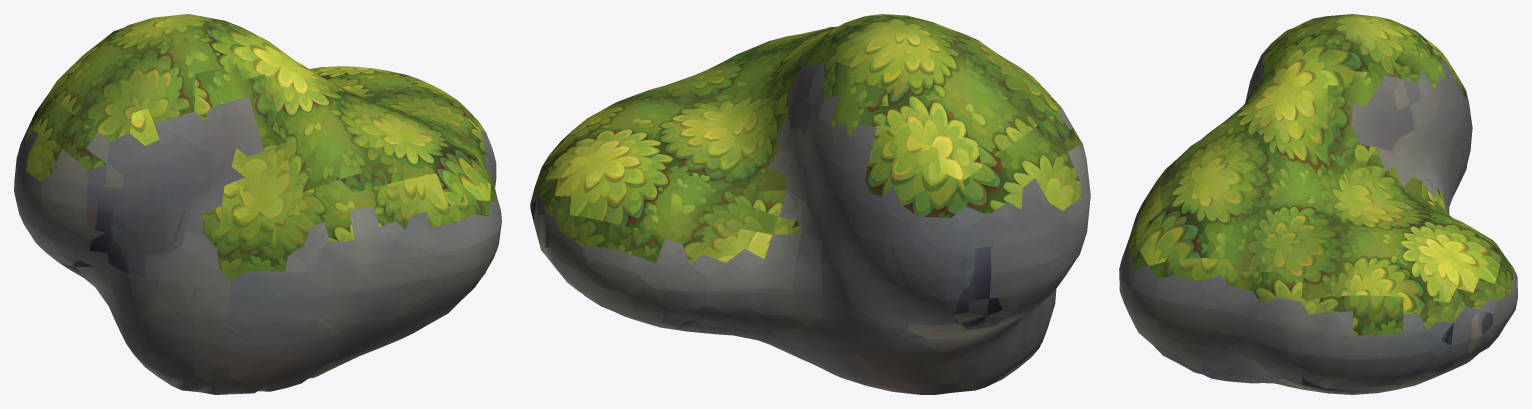
File: mossy_stone1.glb
The picture shows the model from 3 angles, left to right: view 1: azimuth 30°, elevation 25°; view 2: azimuth 150°, elevation 25°; view 3: azimuth 270°, elevation 25°; orthographic projection. The views are drawn at different scales.
Parts seen in each view (by area): view 1: mossy_stone1_stone_LOD0, mossy_stone1_moss_LOD0; view 2: mossy_stone1_moss_LOD0, mossy_stone1_stone_LOD0; view 3: mossy_stone1_moss_LOD0, mossy_stone1_stone_LOD0.
Boxes of the visible parts, <box> form: mossy_stone1_stone_LOD0: <box>14,97,501,394</box>; mossy_stone1_moss_LOD0: <box>25,14,497,281</box>; mossy_stone1_moss_LOD0: <box>535,14,1082,263</box>; mossy_stone1_stone_LOD0: <box>530,57,1090,394</box>; mossy_stone1_moss_LOD0: <box>1128,14,1513,335</box>; mossy_stone1_stone_LOD0: <box>1119,44,1517,394</box>.
Size of what is drawn, in the model's own units: 0.6996 by 0.4653 by 0.554.
Materials: 2 (2 with a texture image).
